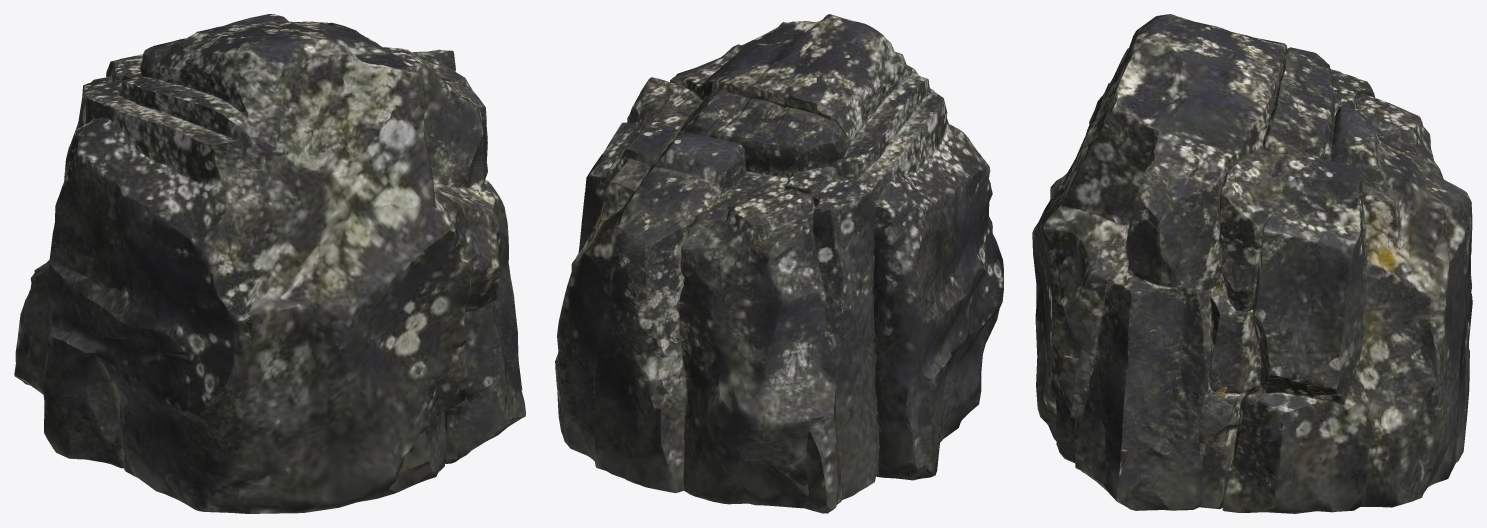
Rendered from boulder2.glb.
The picture shows the model from 3 angles, left to right: view 1: azimuth 30°, elevation 25°; view 2: azimuth 150°, elevation 25°; view 3: azimuth 270°, elevation 25°; orthographic projection. The views are drawn at different scales.
Parts seen in each view (by area): view 1: Mesh_0; view 2: Mesh_0; view 3: Mesh_0.
Boxes of the visible parts, x1,y1,x2,y2 form: Mesh_0: (14,14,525,513); Mesh_0: (555,14,1003,513); Mesh_0: (1032,14,1472,513).
Bounding box in the file's own units: 0.9539 × 0.9842 × 1.
Materials: 1 (1 with a texture image).
